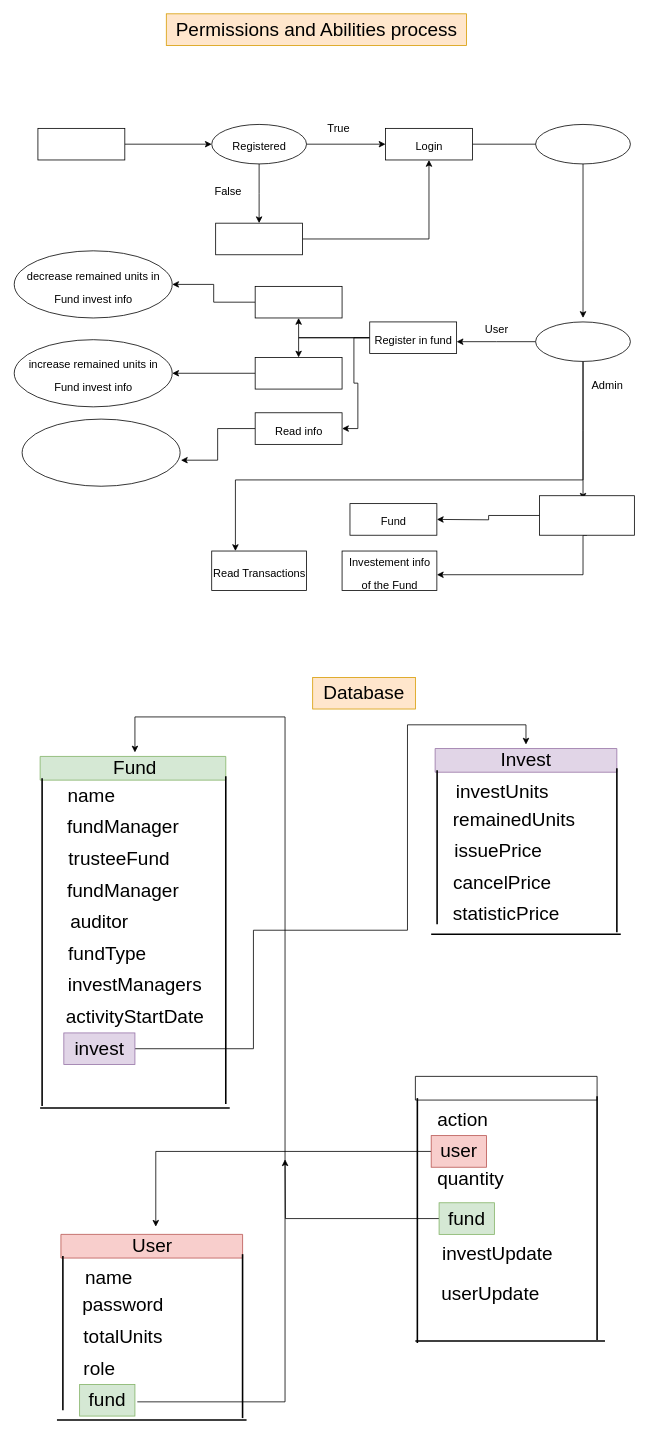
This 648x1439 diagram has some shape labels left out. The shapes that lost their labels are listed below. From the top down, each one's centre as x and y in pixels, then its label:
the point at 81,144: Person
the point at 582,144: set Token
the point at 259,238: Sign-up
the point at 298,302: Sell unit
the point at 582,341: set Role
the point at 298,373: Buy unit
the point at 100,452: available data are fund and its invest info
the point at 586,515: Create & Edit & delete
the point at 506,1088: Transactions Logs
